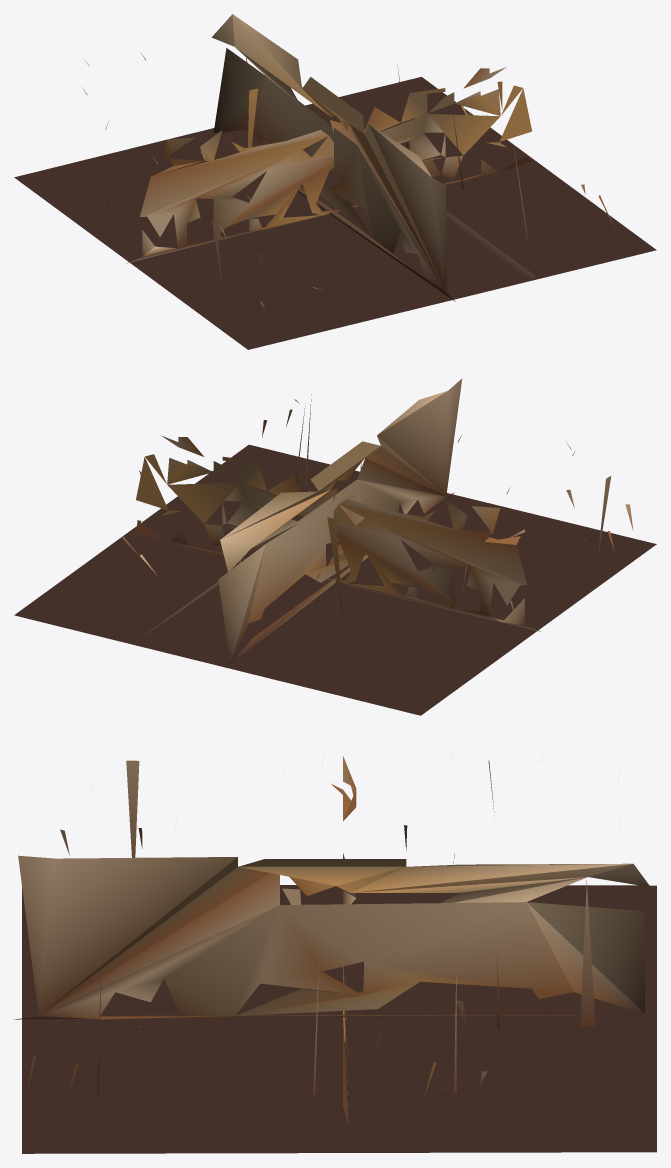
3 renders of one model, top to bottom at view 1: azimuth 30°, elevation 25°; view 2: azimuth 150°, elevation 25°; view 3: azimuth 270°, elevation 25°, orthographic. The views are drawn at different scales.
Visible parts, largest first — view 1: body; view 2: body; view 3: body.
Part boxes in pixels (x1,y1,x2,y2): body: [14, 14, 656, 349]; body: [14, 378, 656, 715]; body: [14, 756, 656, 1153].
Size of the model in its own units: 10.14 by 2.79 by 10.13.
